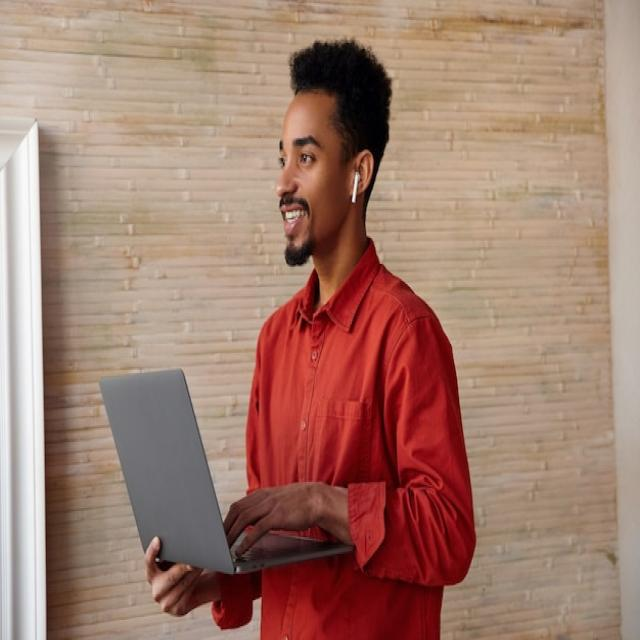airpods: (350, 170, 360, 204)
